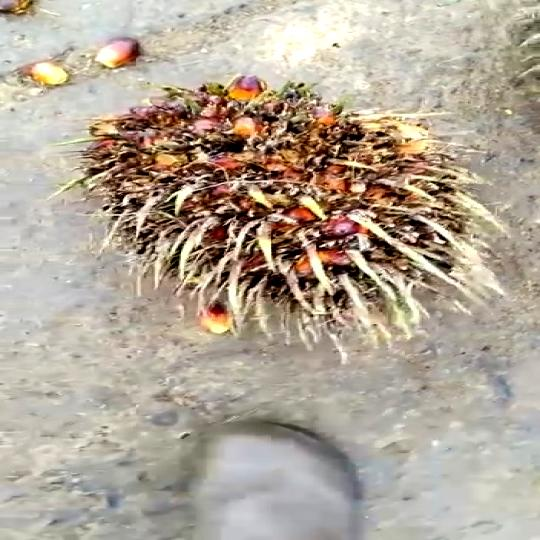terlalu masak: (80, 76, 468, 337)
